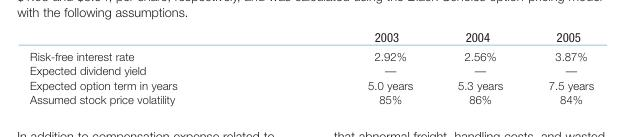table: (29, 29, 593, 105)
table column: (29, 29, 271, 105), (271, 29, 434, 105), (434, 29, 525, 105), (525, 29, 593, 105)
table column header: (29, 29, 593, 46)
table row: (29, 29, 593, 46), (29, 46, 593, 62), (29, 62, 593, 77), (29, 77, 593, 91), (29, 91, 593, 105)
